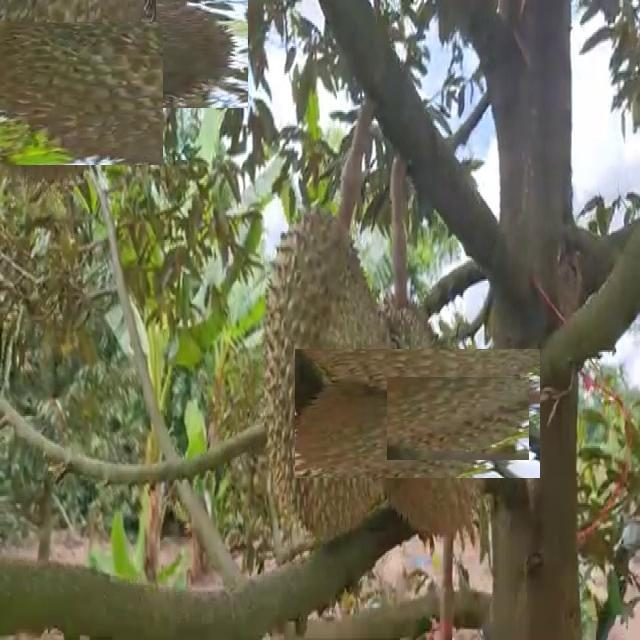durian: (256, 197, 401, 548), (323, 320, 511, 507), (0, 12, 155, 174), (402, 362, 514, 474), (149, 0, 257, 100)
